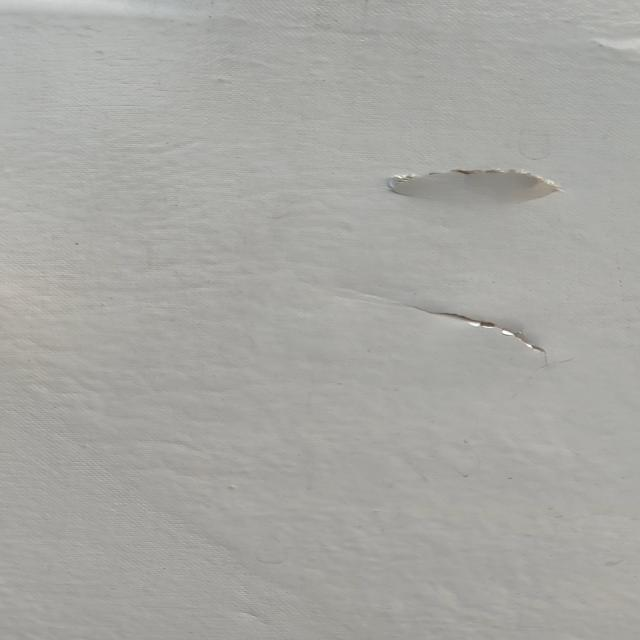Scratches: (392, 294, 561, 368), (361, 157, 589, 206)
